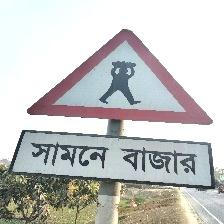Market-in-front: (16, 29, 211, 194)
